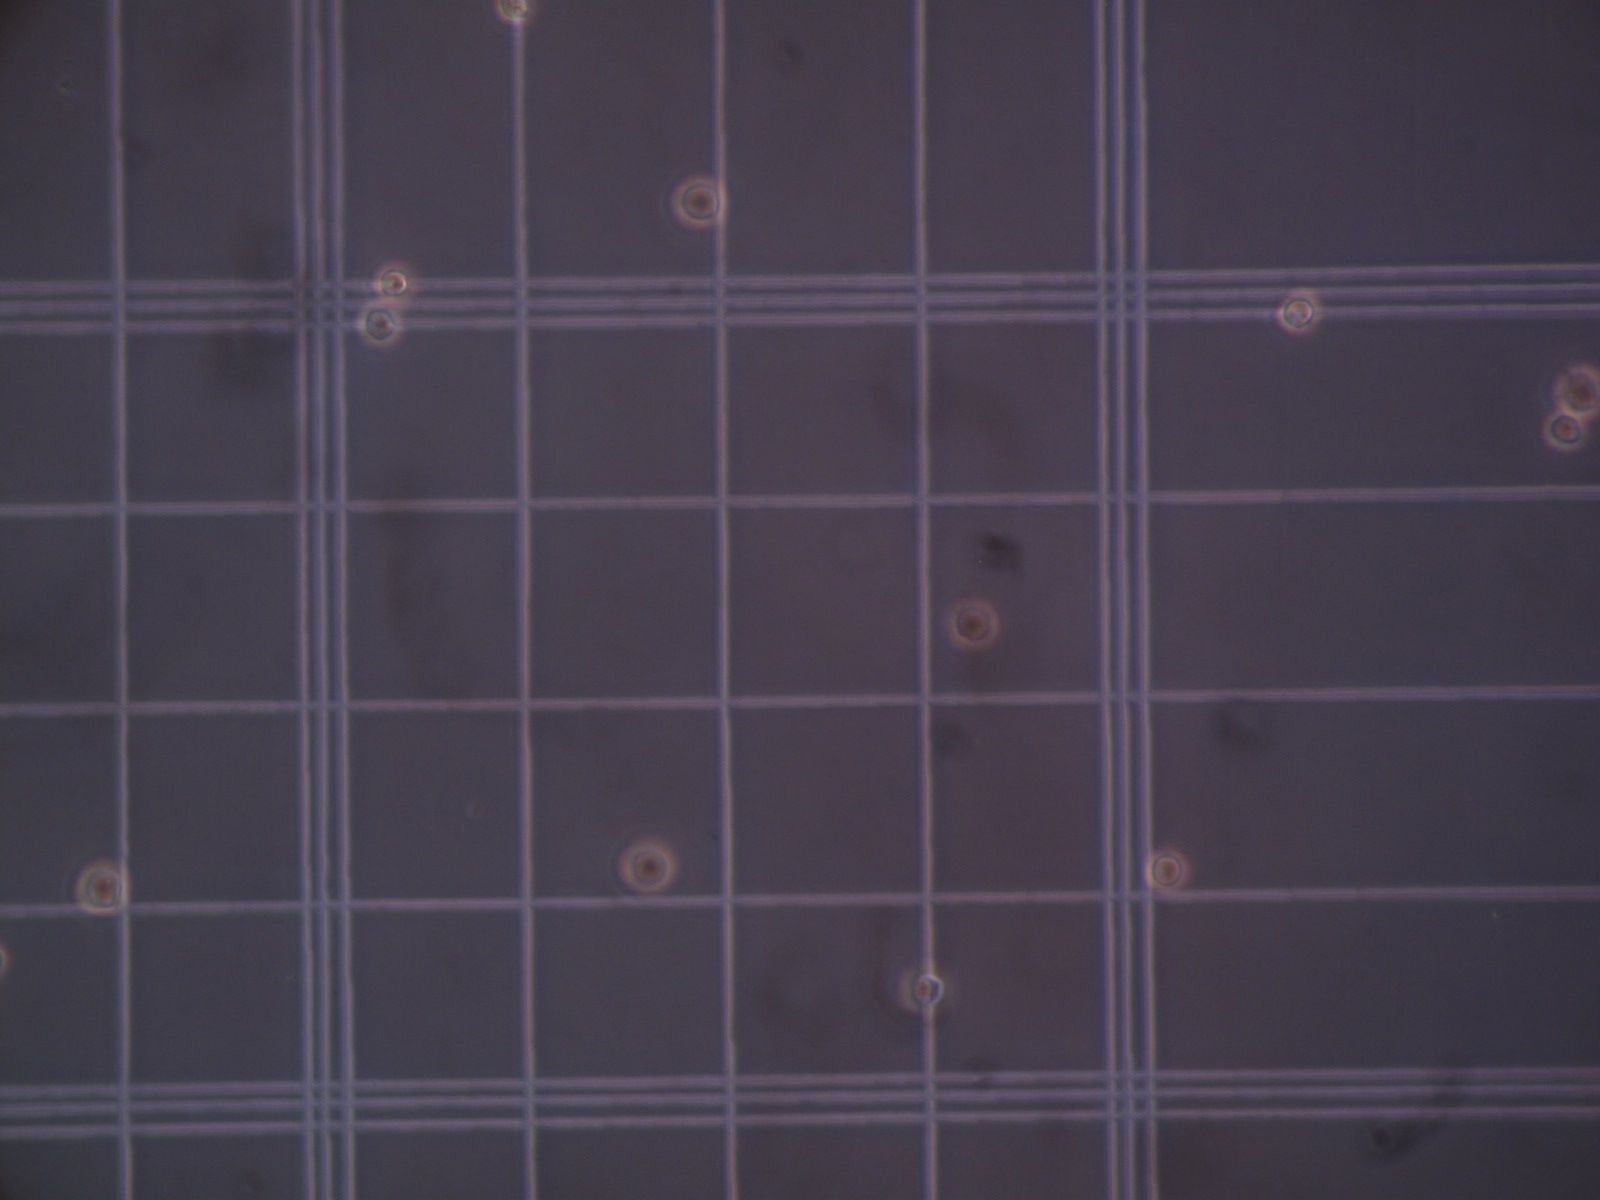hemo: (619, 839, 675, 892), (74, 861, 129, 915), (671, 176, 727, 229), (947, 599, 1000, 650), (1553, 363, 1600, 418), (898, 967, 949, 1015), (357, 301, 403, 348), (1276, 287, 1322, 334), (1144, 848, 1189, 892), (373, 261, 414, 304), (1543, 412, 1587, 451), (495, 1, 535, 23)
